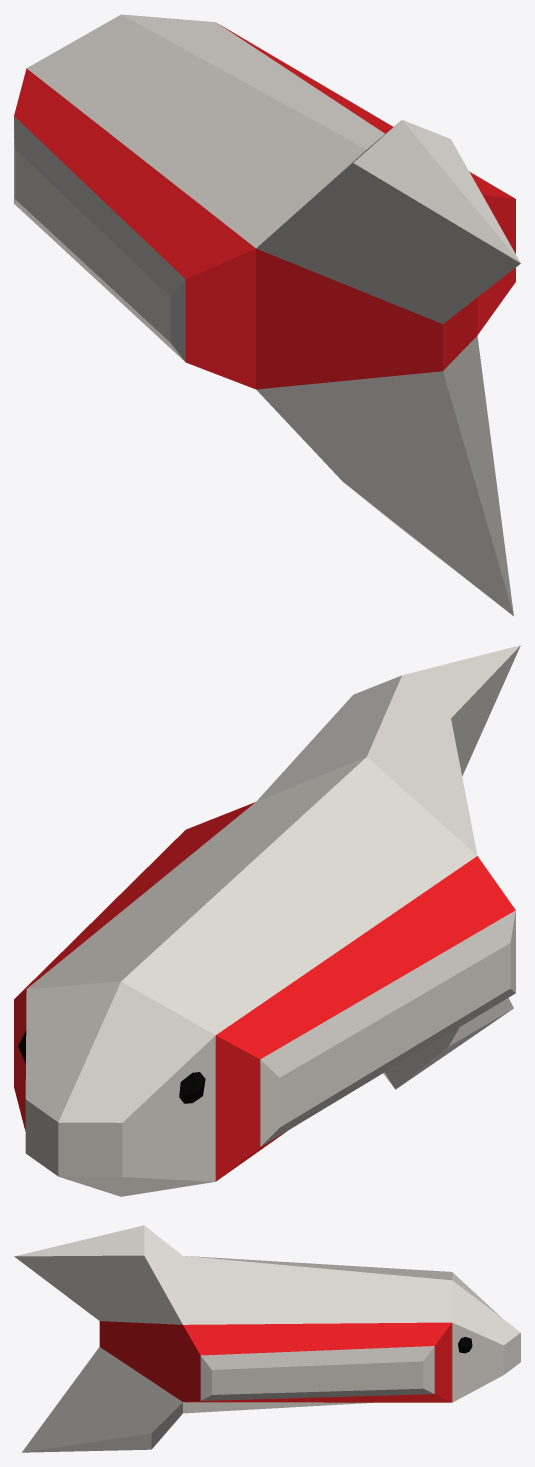
File: spaceFish.fbx
3 renders of one model, top to bottom at view 1: azimuth 30°, elevation 25°; view 2: azimuth 150°, elevation 25°; view 3: azimuth 270°, elevation 25°, orthographic. The views are drawn at different scales.
Parts seen in each view (by area): view 1: spacefish; view 2: spacefish; view 3: spacefish.
Boxes of the visible parts, left/top/right/bottom form: spacefish: left=14, top=14, right=520, bottom=615; spacefish: left=14, top=645, right=520, bottom=1196; spacefish: left=14, top=1225, right=520, bottom=1452.
Bounding box in the file's own units: 603 × 703 × 1421.
